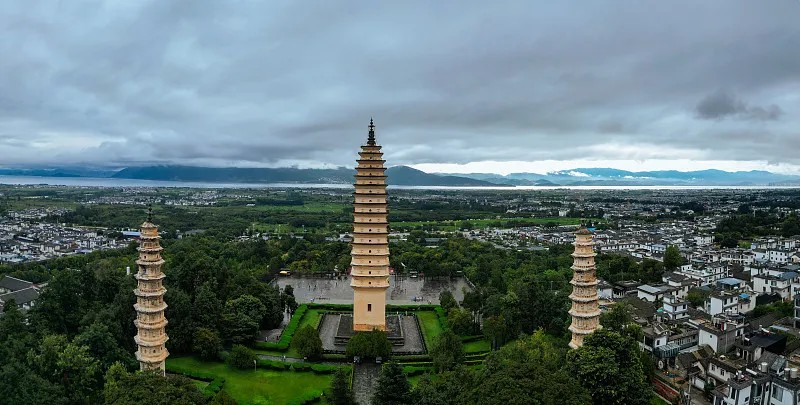ThreePagoda: (349, 118, 389, 330)
